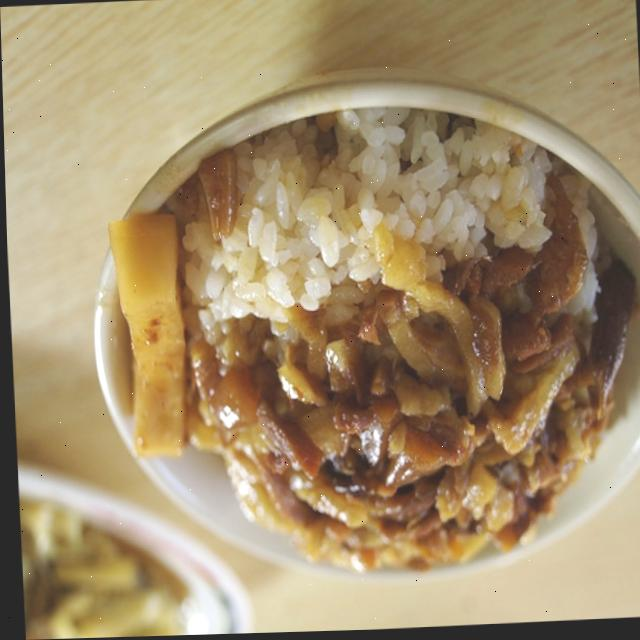猪肉菜式: (53, 63, 640, 616)
